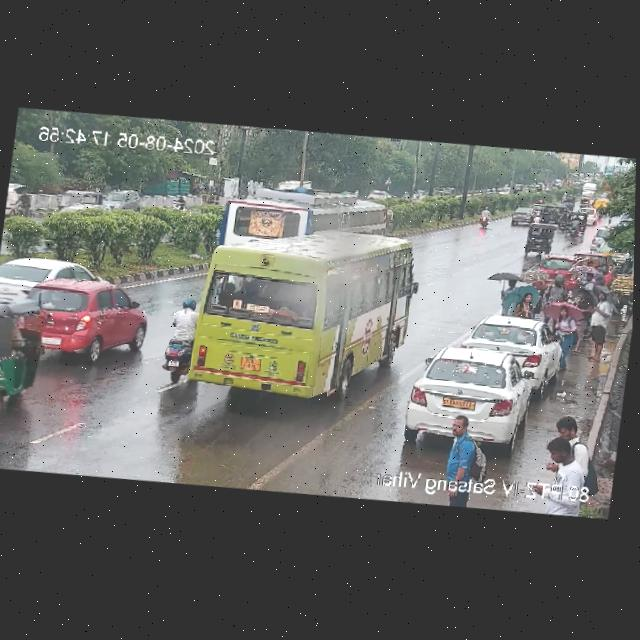bus: (173, 211, 419, 413), (218, 179, 392, 256)
car: (403, 340, 553, 453), (10, 275, 154, 373), (0, 250, 119, 311), (459, 312, 564, 377), (0, 293, 44, 424), (523, 251, 575, 287), (521, 223, 557, 255), (59, 187, 100, 215), (104, 186, 142, 212), (62, 201, 106, 217), (589, 222, 612, 252), (509, 207, 540, 227), (540, 203, 566, 225), (366, 187, 394, 202), (584, 207, 598, 223), (562, 194, 576, 209), (531, 201, 544, 212), (430, 190, 443, 198)
motorcycle: (163, 293, 201, 378), (10, 190, 34, 218), (567, 215, 582, 238), (477, 207, 490, 228), (172, 194, 187, 210), (559, 211, 568, 233), (596, 203, 605, 219), (533, 212, 542, 224), (401, 190, 409, 198), (588, 197, 594, 206), (579, 201, 586, 208)
person: (537, 413, 597, 491), (429, 414, 496, 482), (575, 290, 615, 359), (547, 307, 583, 361), (539, 277, 570, 324), (519, 285, 539, 320), (500, 280, 516, 304), (582, 270, 596, 286), (605, 218, 614, 227), (586, 260, 595, 267)
